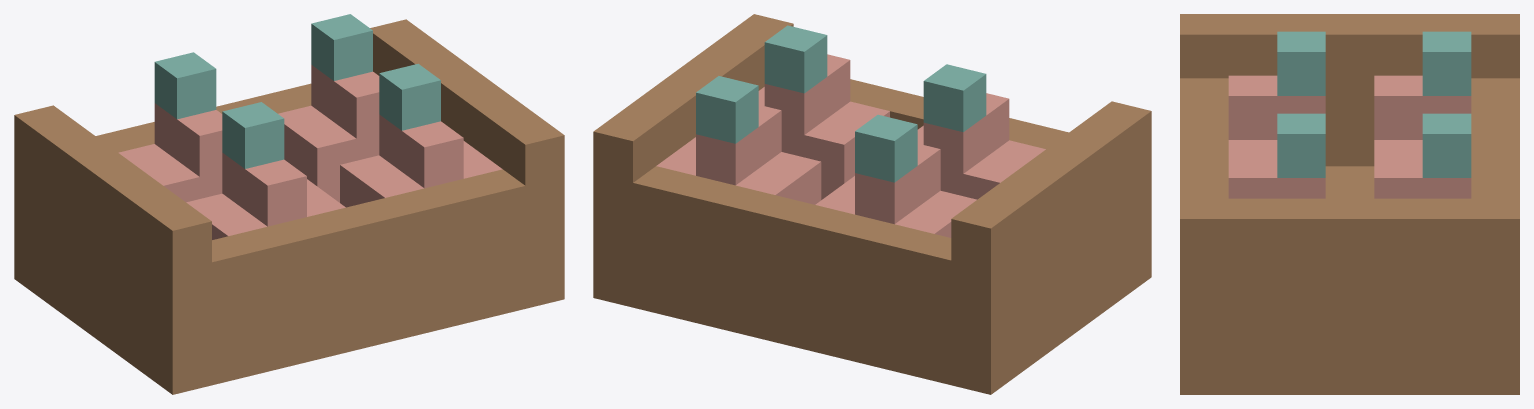
The model's file is pocket-borough-fruit-crate__297.glb.
The picture shows the model from 3 angles, left to right: view 1: azimuth 30°, elevation 25°; view 2: azimuth 150°, elevation 25°; view 3: azimuth 270°, elevation 25°; orthographic projection. The views are drawn at different scales.
Parts seen in each view (by area): view 1: pocket-borough-fruit-crate; view 2: pocket-borough-fruit-crate; view 3: pocket-borough-fruit-crate.
Part boxes in pixels (x1,y1,x2,y2): pocket-borough-fruit-crate: [14, 14, 564, 394]; pocket-borough-fruit-crate: [593, 14, 1151, 394]; pocket-borough-fruit-crate: [1180, 14, 1519, 394].
Bounding box in the file's own units: 1.25 × 0.625 × 0.875.
